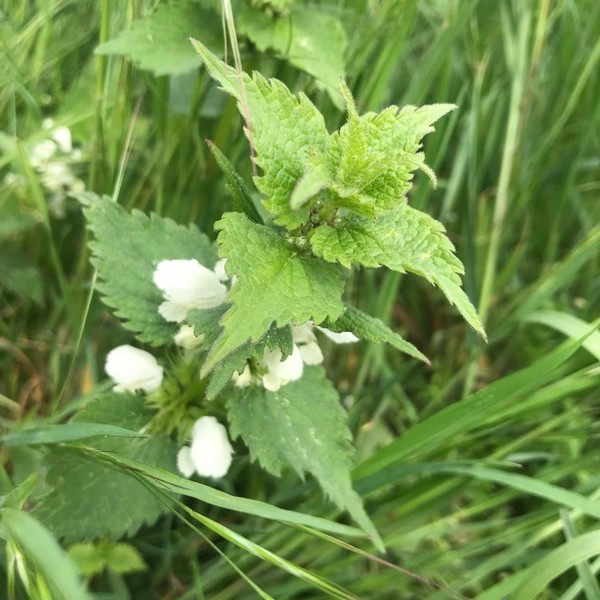obstacle: (52, 17, 486, 571)
